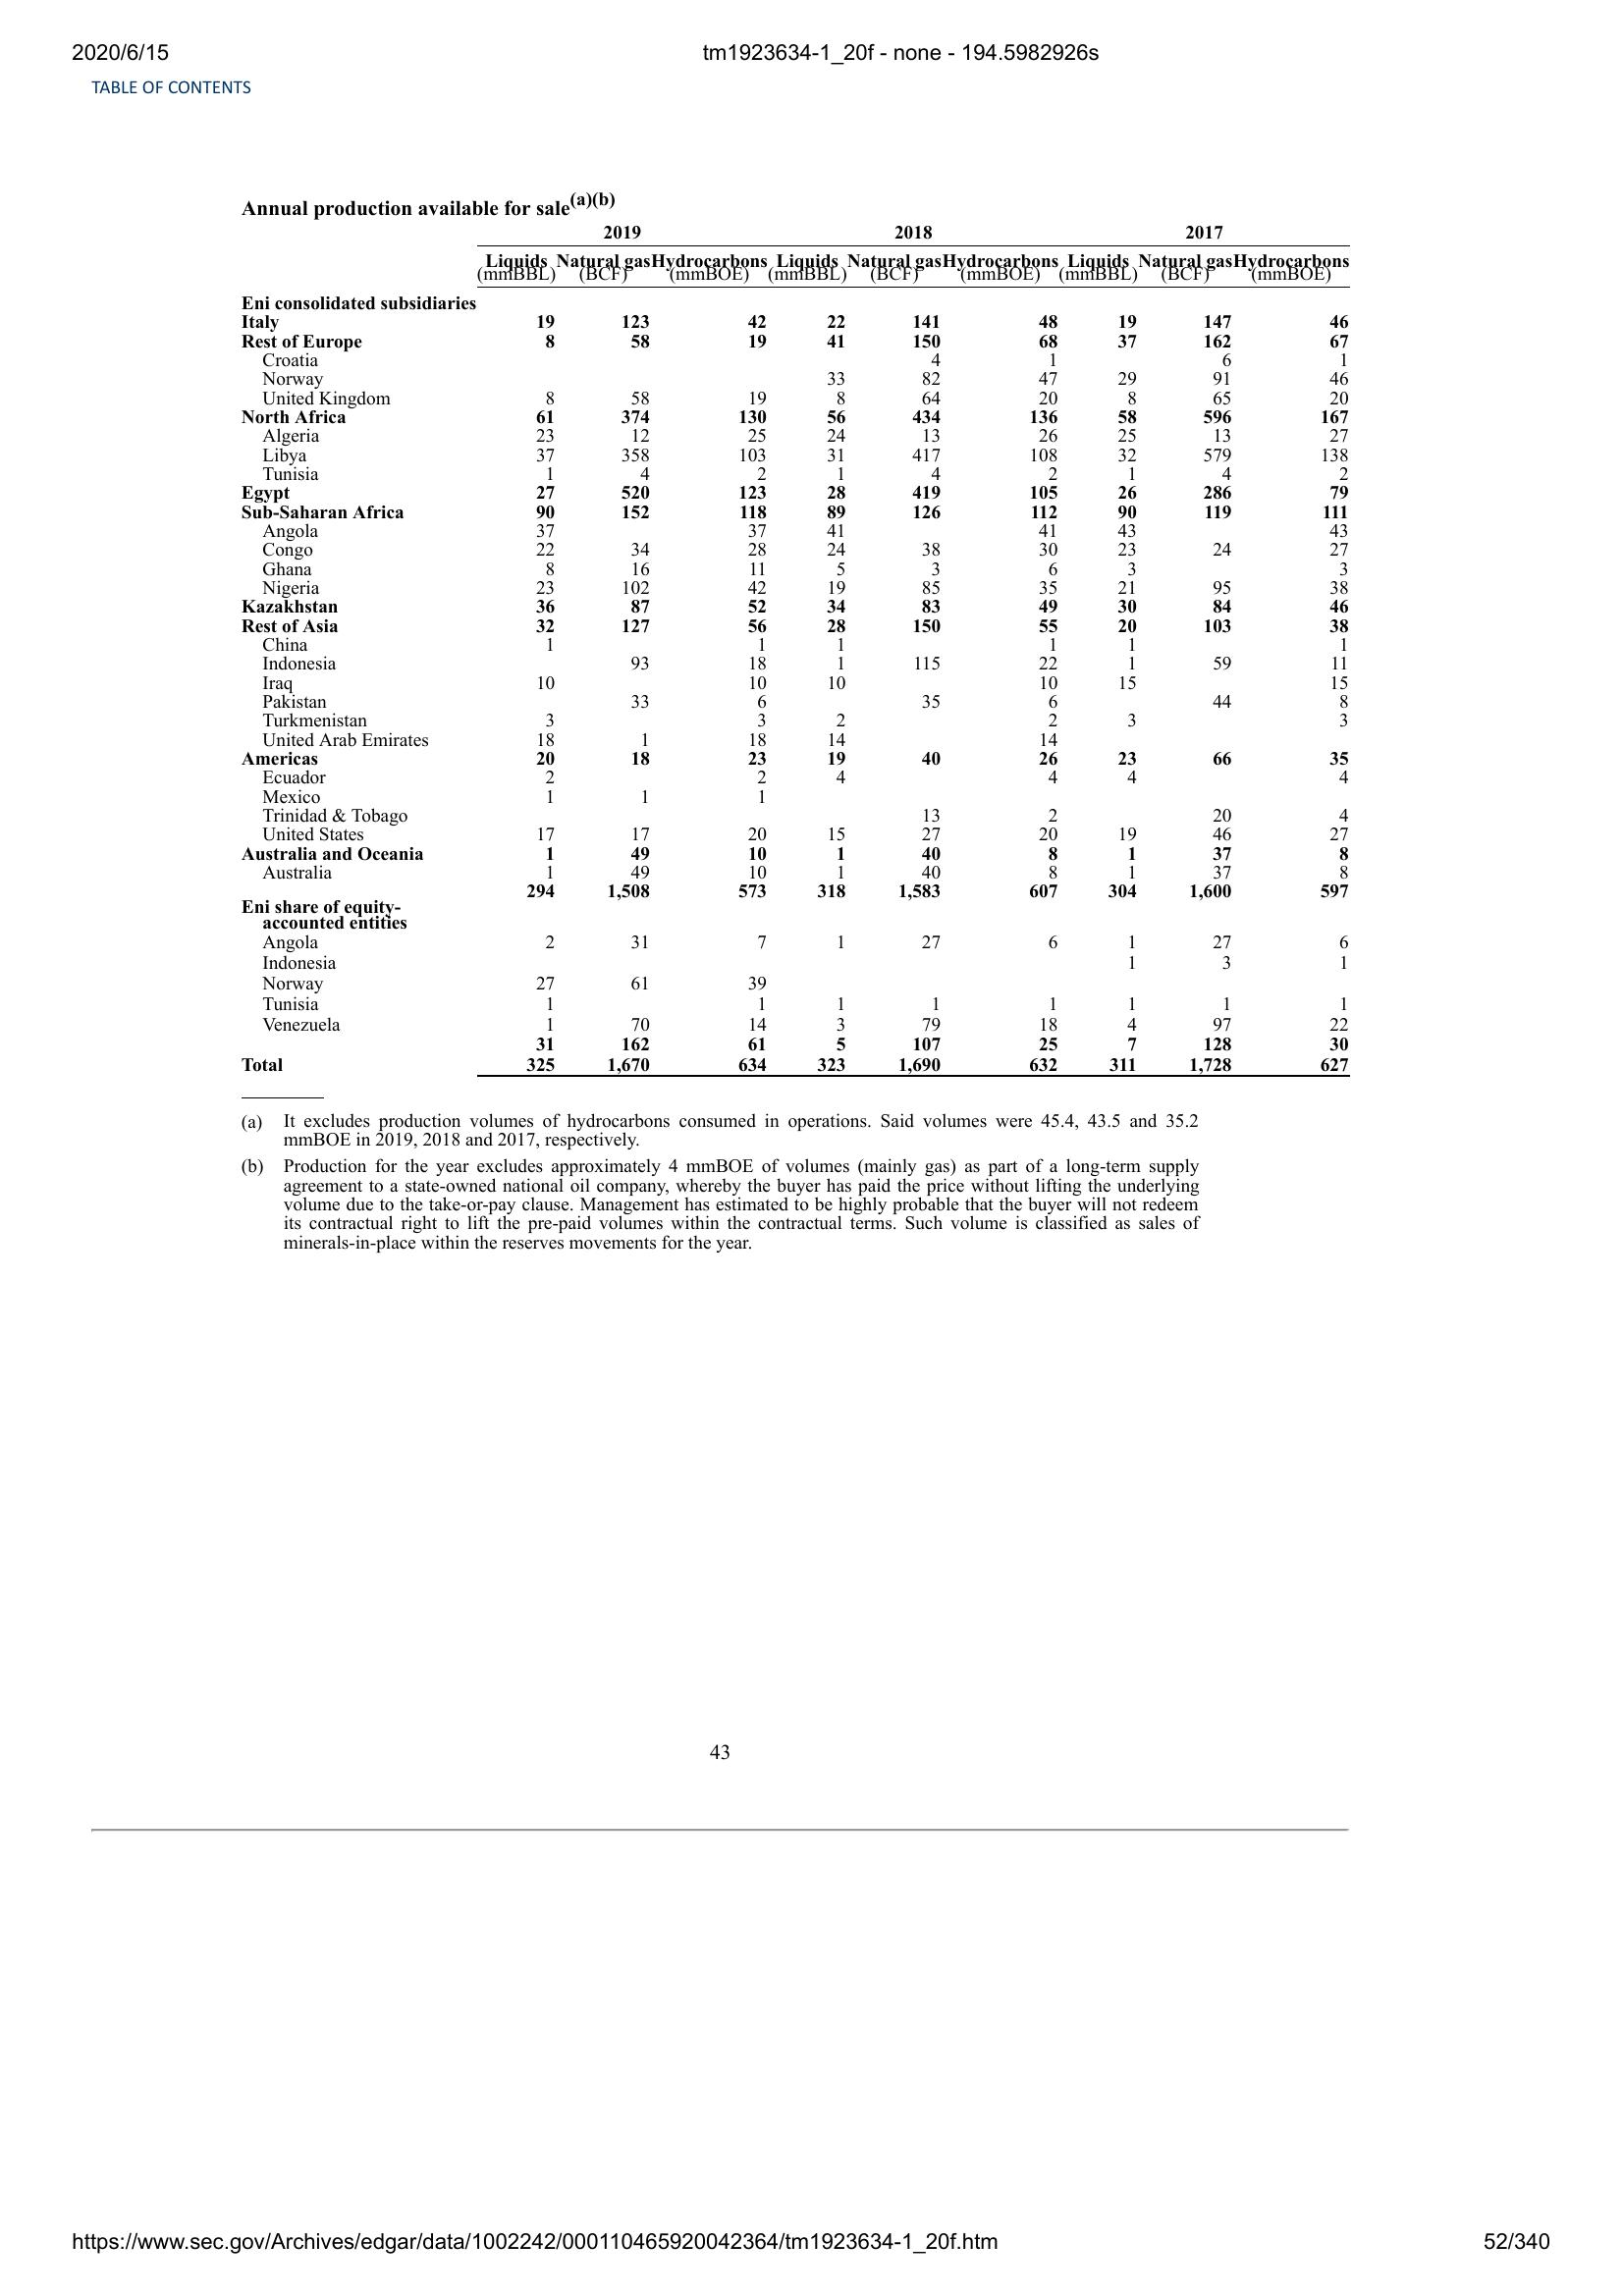table: (227, 219, 1351, 1083)
